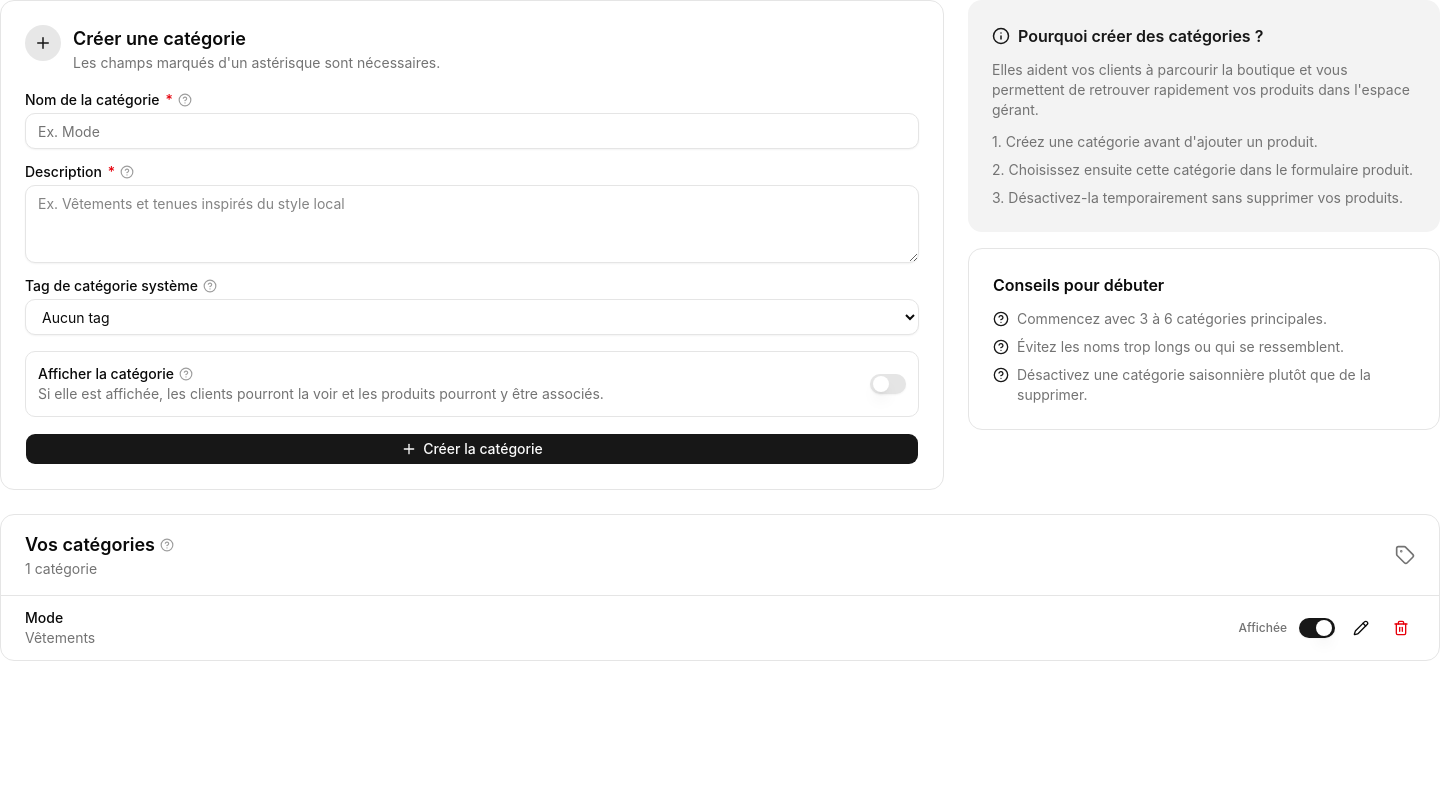
Test: CategoryManager › shows an error and leaves the category unchanged when the toggle update is rejected
This screenshot has width=1440, height=810.
Click the switch named "Masquer Mode" at (1317, 628), box x1=1299 y1=618 x2=1335 y2=638
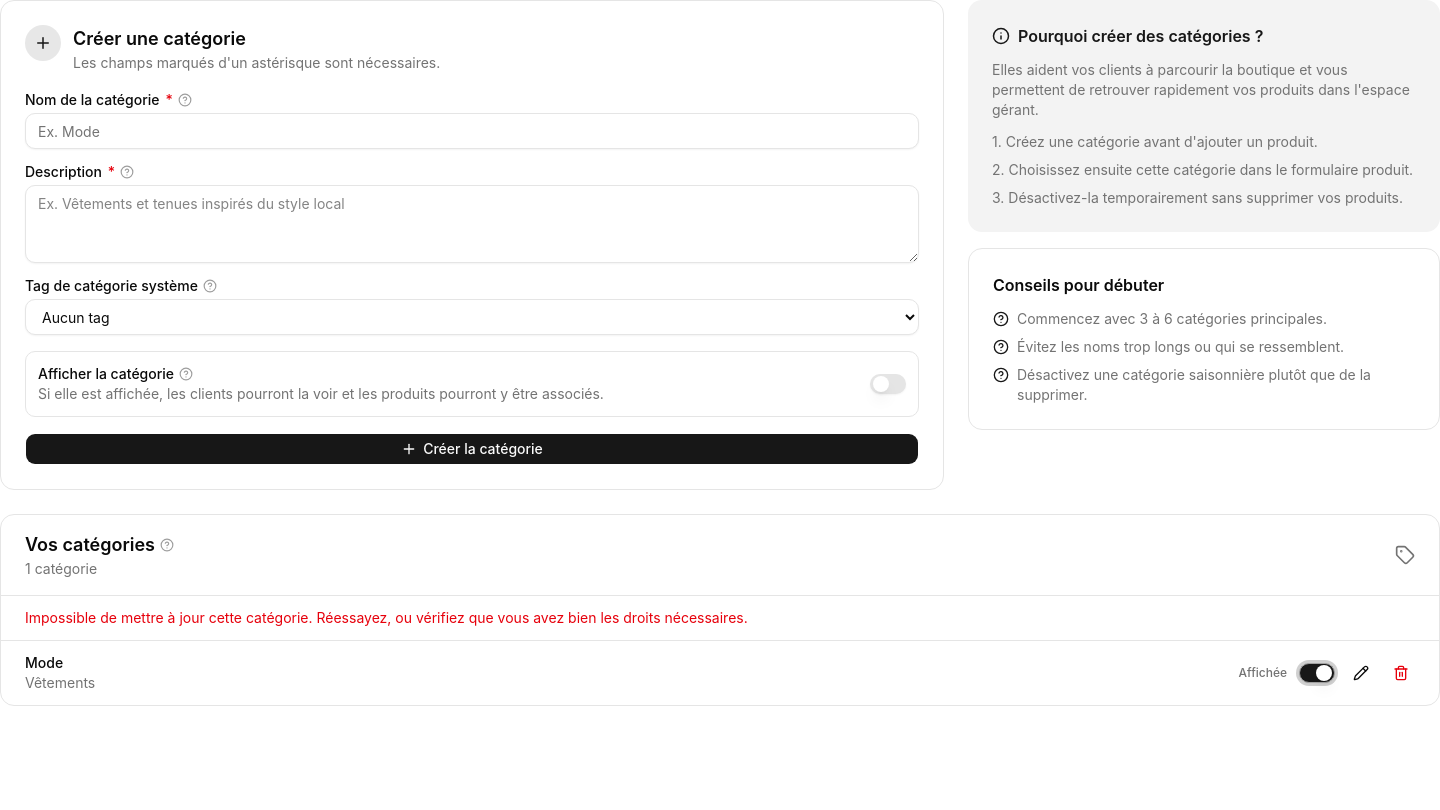
Expected: the text "Affichée" is shown, x1=1239 y1=665 x2=1287 y2=681
Expected: the text "Impossible de mettre à jour cette catégorie" is shown, x1=25 y1=609 x2=748 y2=626
